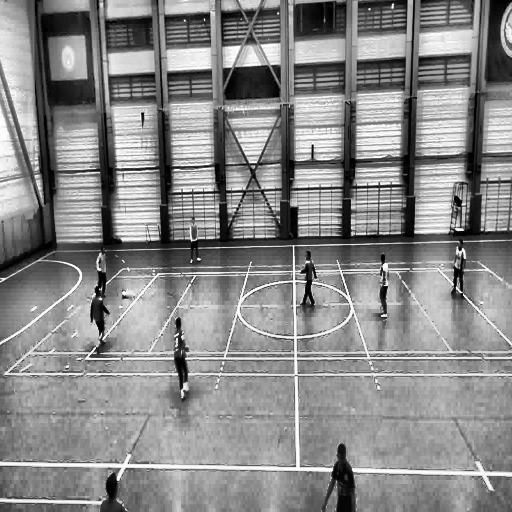ball: (121, 288, 128, 302)
player: (322, 442, 356, 512), (174, 316, 192, 401), (91, 288, 110, 352), (297, 250, 316, 308), (449, 238, 465, 296), (94, 242, 109, 301), (377, 253, 388, 318), (188, 218, 202, 263)
